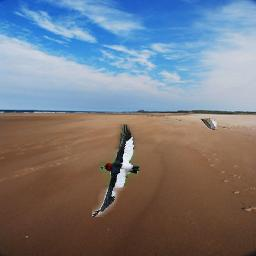Cuckoo: (201, 118, 218, 130)
Woodpecker: (92, 125, 140, 218)
